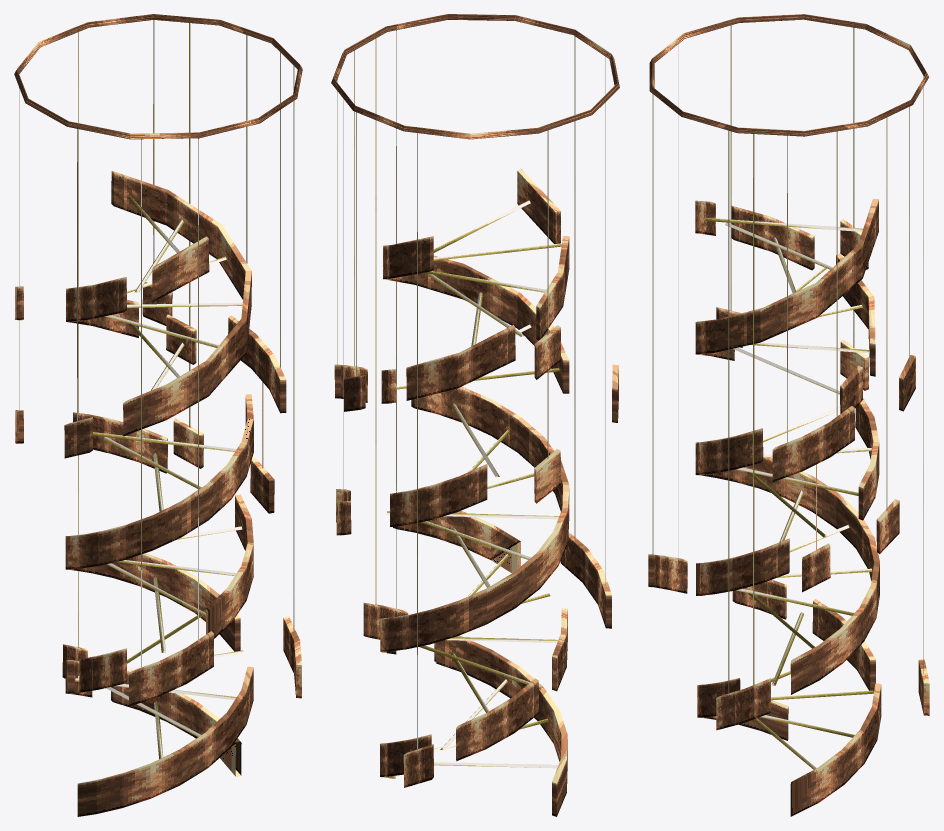
File: genome_sfe.obj
The picture shows the model from 3 angles, left to right: view 1: azimuth 30°, elevation 25°; view 2: azimuth 150°, elevation 25°; view 3: azimuth 270°, elevation 25°; orthographic projection. The views are drawn at different scales.
Visible parts, largest first — view 1: genome_SFE; view 2: genome_SFE; view 3: genome_SFE.
Boxes of the visible parts, x1=… form: genome_SFE: x1=14, y1=14, x2=302, y2=816; genome_SFE: x1=331, y1=14, x2=619, y2=816; genome_SFE: x1=648, y1=14, x2=929, y2=816.
Bounding box in the file's own units: 21.13 × 58.36 × 21.14.
2 materials, 2 textured.
